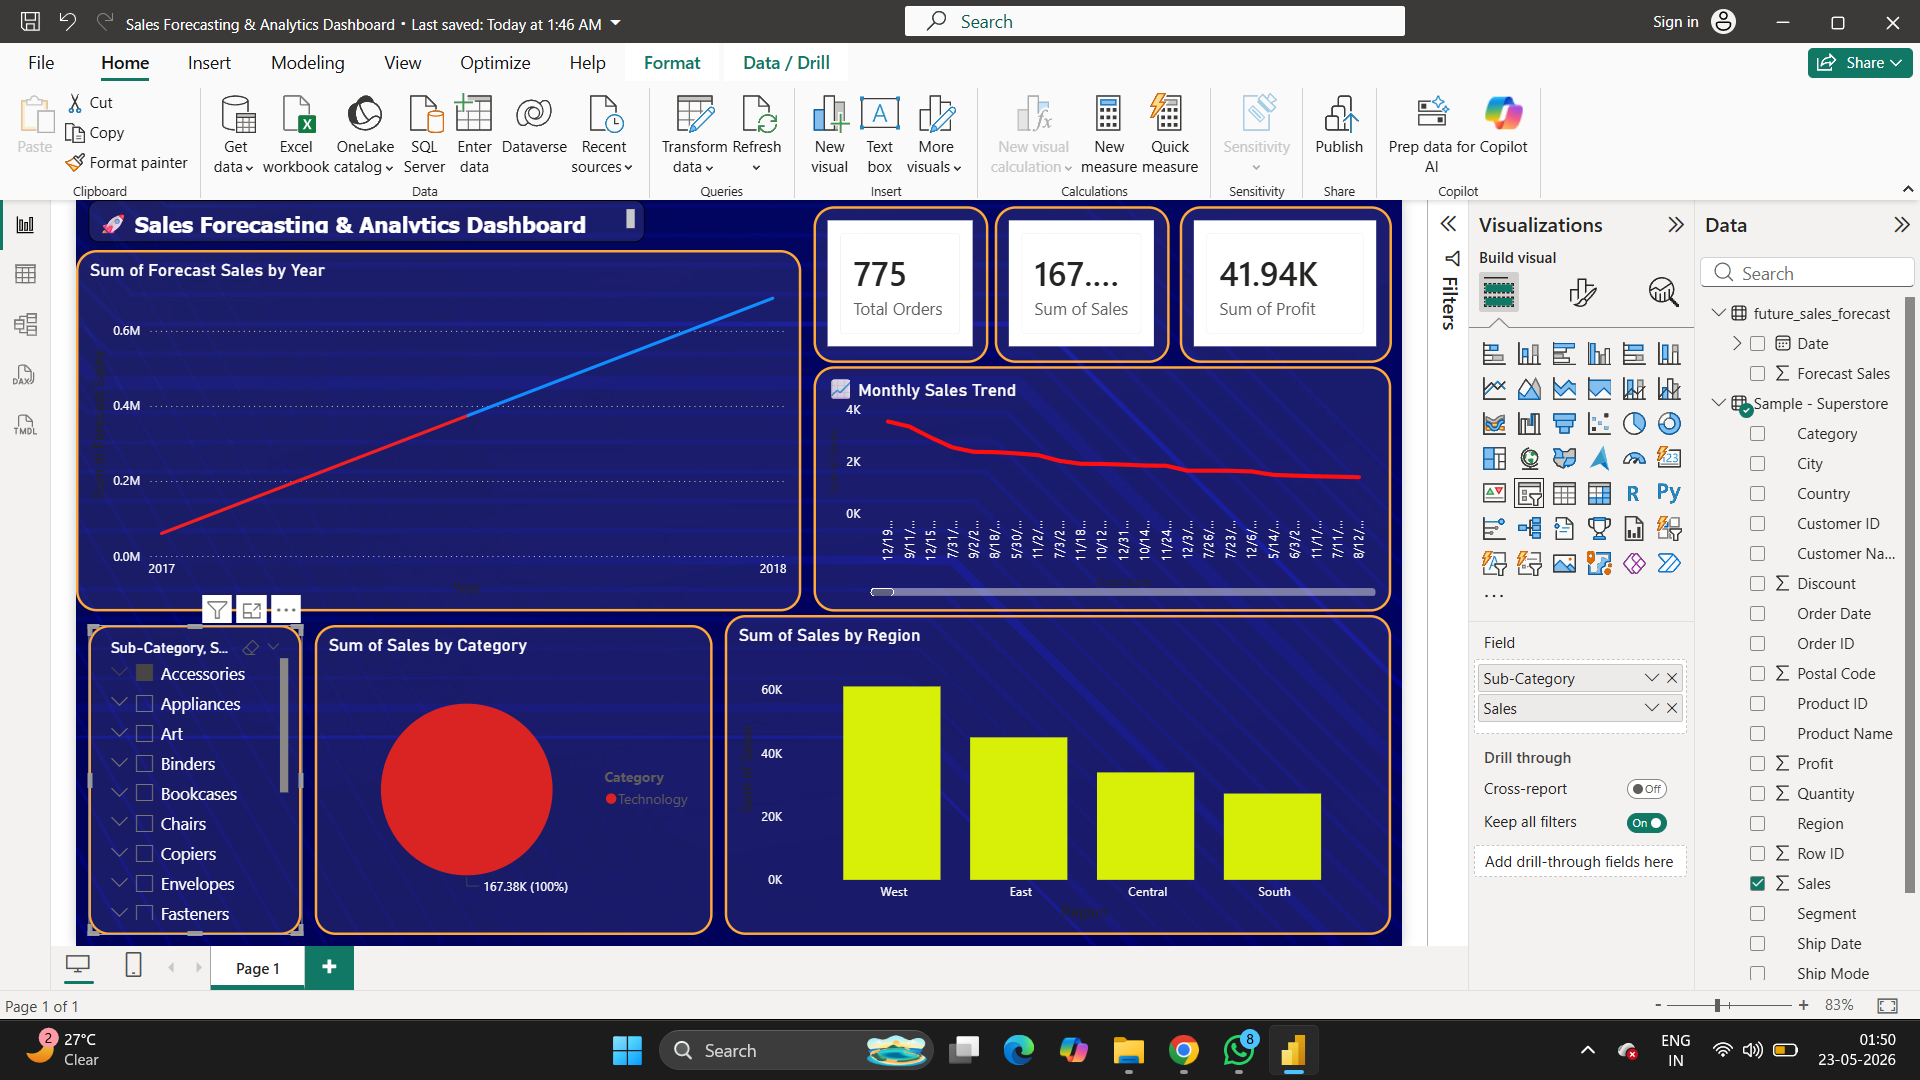

Layout of this report page (visuals, bound fields, positions):
{"tool":"powerbi","page":{"name":"Page 1","canvas":[1280,720],"ordinal":0},"visuals":[{"type":"cardVisual","fields":{"Data":["Sum(Sample - Superstore.Profit)"]},"box":[1064.8,5.5,204.5,150.9],"z":0},{"type":"cardVisual","fields":{"Data":["Sum(Sample - Superstore.Sales)"]},"box":[886.5,5.5,168.8,150.9],"z":1000},{"type":"cardVisual","fields":{"Data":["Sample - Superstore.Total Orders"]},"box":[712.2,5.5,168.8,150.9],"z":2000},{"type":"lineChart","title":"📈 Monthly Sales Trend","fields":{"Category":["Sample - Superstore.Order Date"],"Y":["Sum(Sample - Superstore.Sales)"]},"box":[12.1,41,690.1,359.5],"z":3000},{"type":"clusteredColumnChart","fields":{"Category":["Sample - Superstore.Region"],"Y":["Sum(Sample - Superstore.Sales)"]},"box":[626.1,410.2,643,299.2],"z":4000},{"type":"pieChart","fields":{"Category":["Sample - Superstore.Category"],"Y":["Sum(Sample - Superstore.Sales)"]},"box":[226.8,410.2,386.1,299.2],"z":5000},{"type":"slicer","fields":{"Values":["Sample - Superstore.Sub-Category","Sample - Superstore.Sales"]},"box":[12.3,410.3,205.8,299.1],"z":6000},{"type":"areaChart","fields":{"Category":["future_sales_forecast.Date.Variation.Date Hierarchy.Year","future_sales_forecast.Date.Variation.Date Hierarchy.Month","future_sales_forecast.Date.Variation.Date Hierarchy.Day"],"Y":["Sum(future_sales_forecast.Forecast Sales)"]},"box":[711.8,160.5,557.4,240.1],"z":7000},{"type":"textbox","box":[12.3,0,536.5,41.2],"z":8000}]}

Visuals, with their boxes on the page's 1280x720 design canvas (x1, y1, x2, y2). These are canvas units, not pixel positions in the 1920x1080 screenshot, which may show the page scaled, cropped or inside an application window:
cardVisual - Sum(Sample - Superstore.Profit): box(1065, 6, 1269, 156)
cardVisual - Sum(Sample - Superstore.Sales): box(886, 6, 1055, 156)
cardVisual - Sample - Superstore.Total Orders: box(712, 6, 881, 156)
"📈 Monthly Sales Trend" lineChart: box(12, 41, 702, 400)
clusteredColumnChart - Sample - Superstore.Region x Sum(Sample - Superstore.Sales): box(626, 410, 1269, 709)
pieChart - Sample - Superstore.Category x Sum(Sample - Superstore.Sales): box(227, 410, 613, 709)
slicer - Sample - Superstore.Sub-Category x Sample - Superstore.Sales: box(12, 410, 218, 709)
areaChart - future_sales_forecast.Date.Variation.Date Hierarchy.Year x future_sales_forecast.Date.Variation.Date Hierarchy.Month: box(712, 160, 1269, 401)
textbox: box(12, 0, 549, 41)
